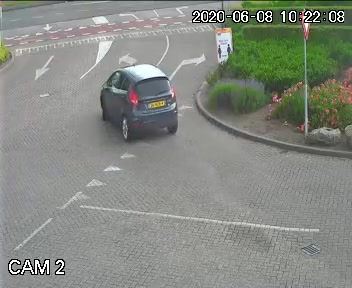car: (82, 54, 185, 159)
